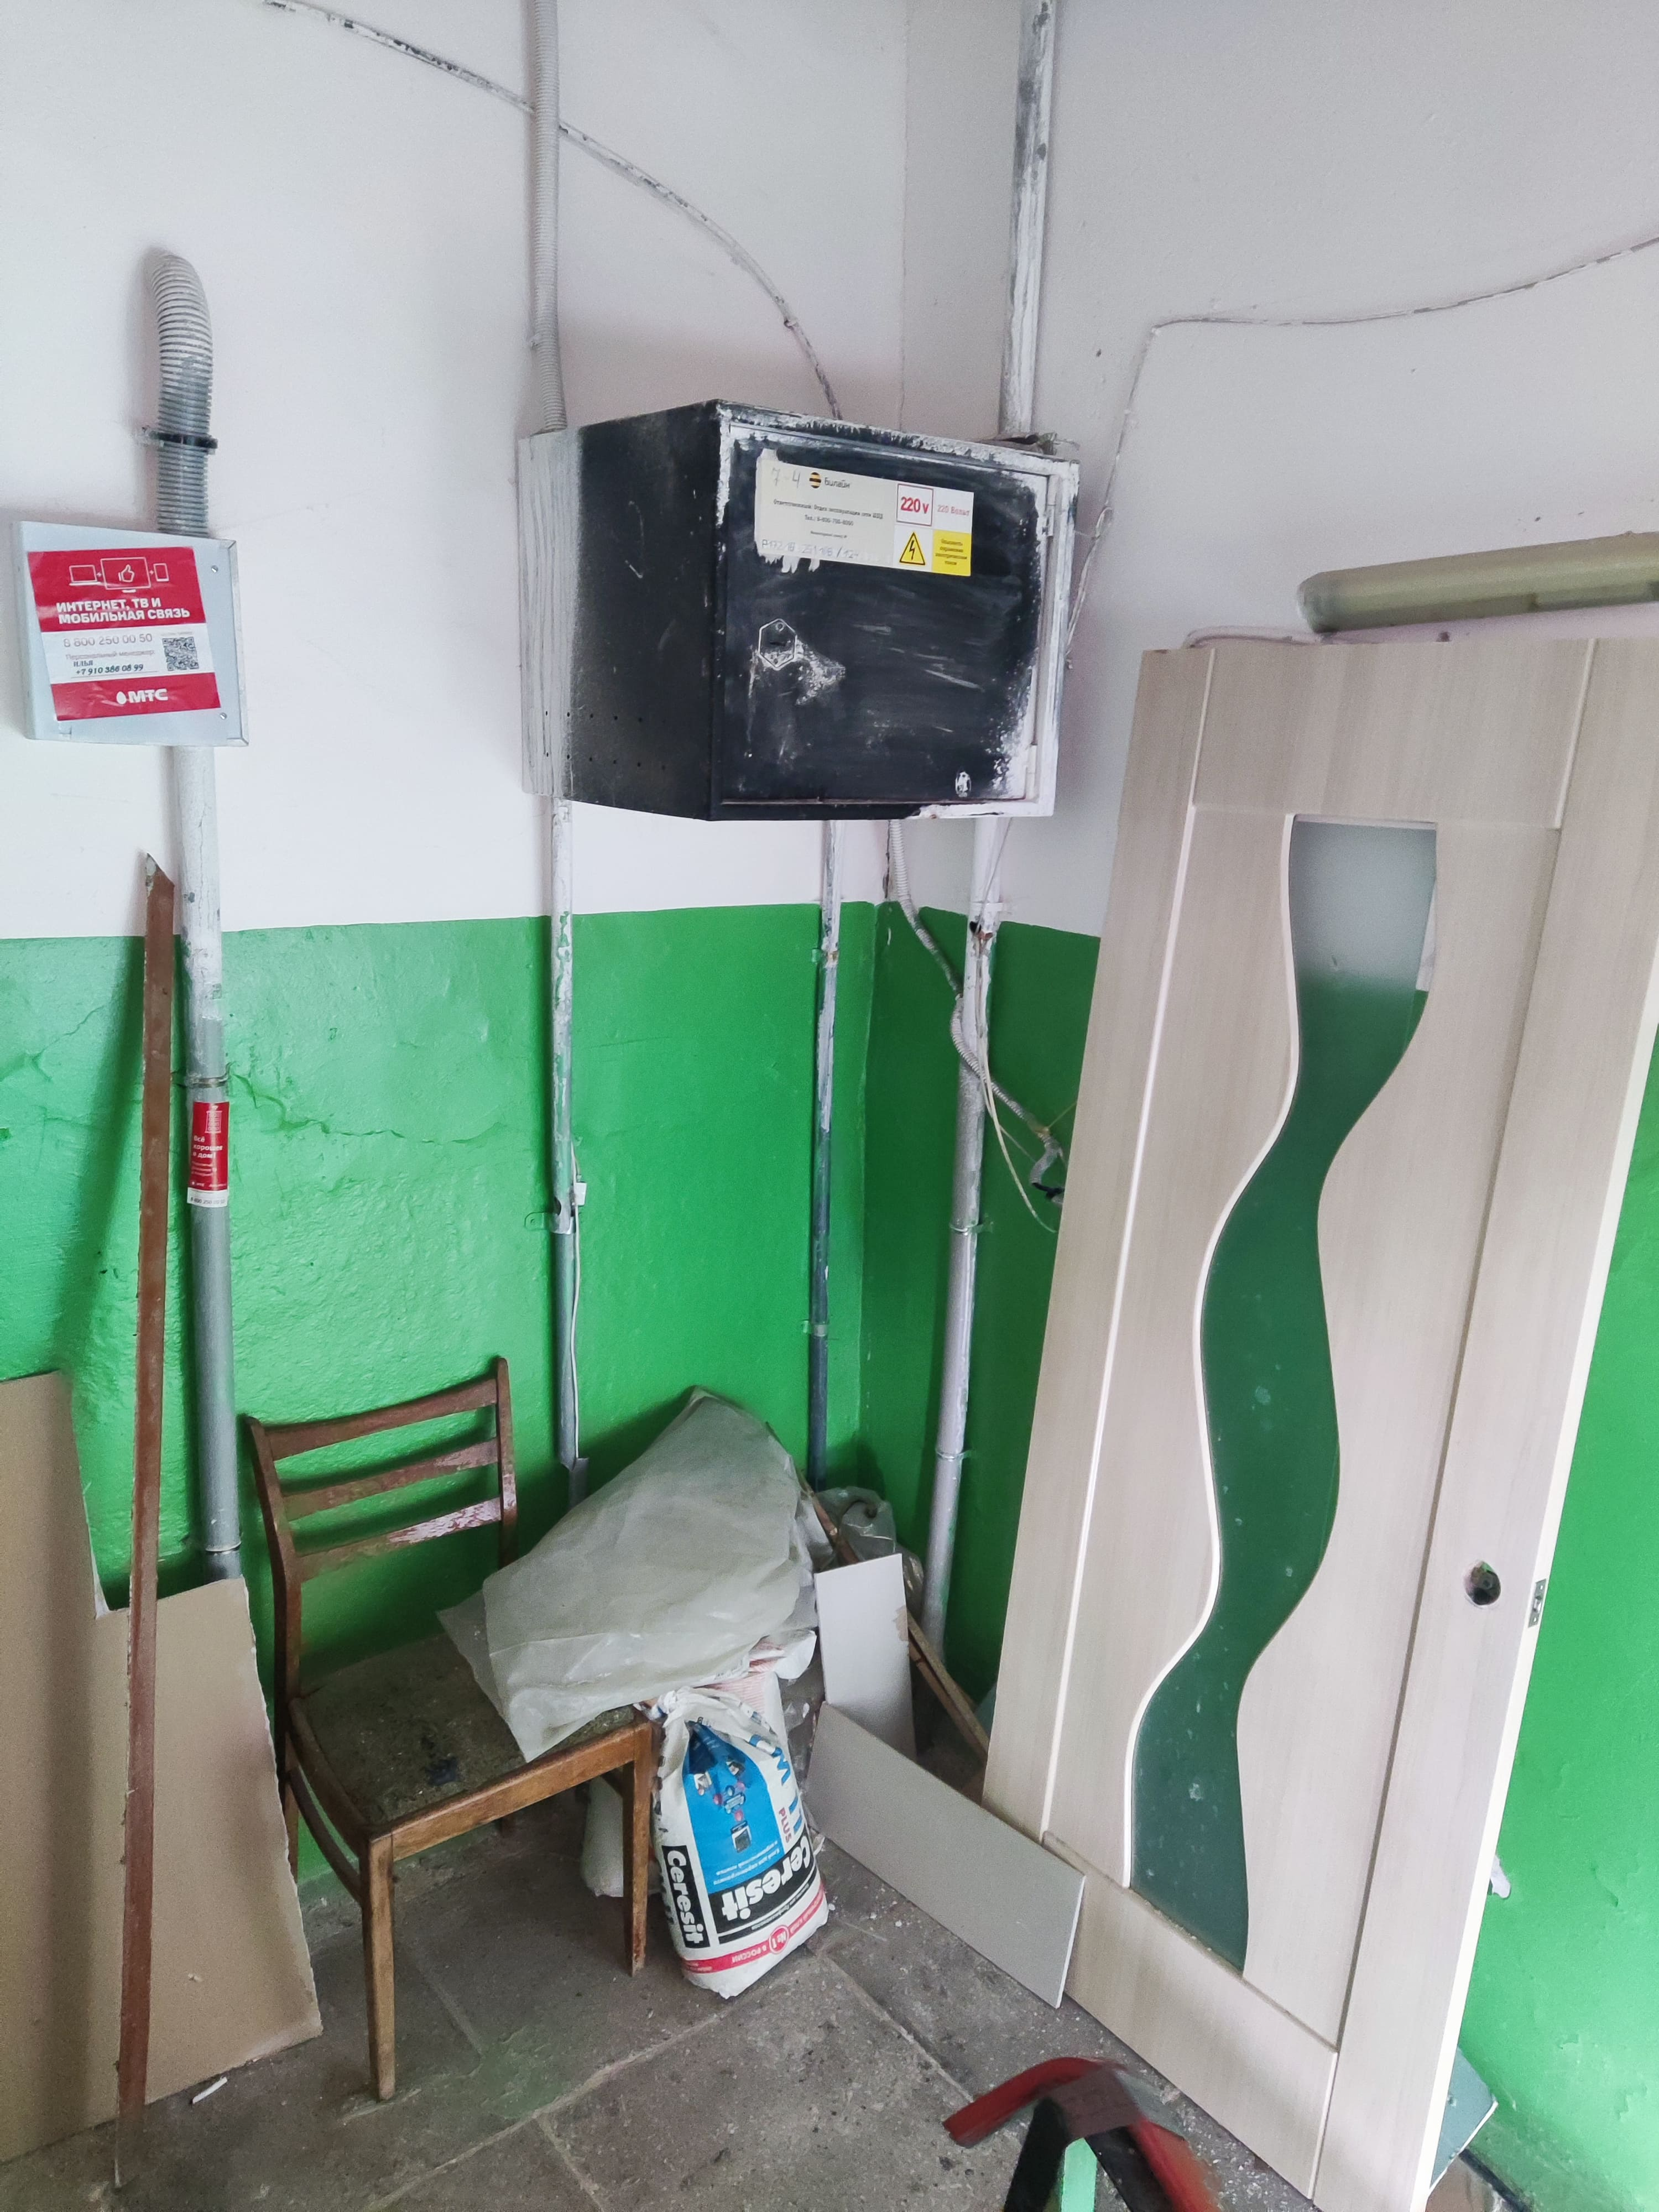shta-9m: (509, 388, 1089, 827)
